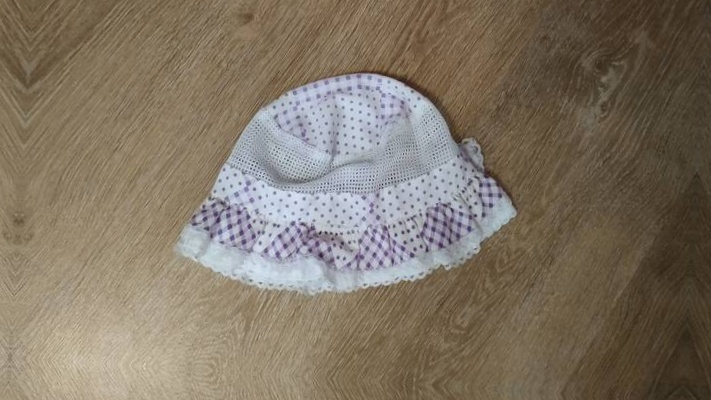Hat: (156, 40, 557, 330)
